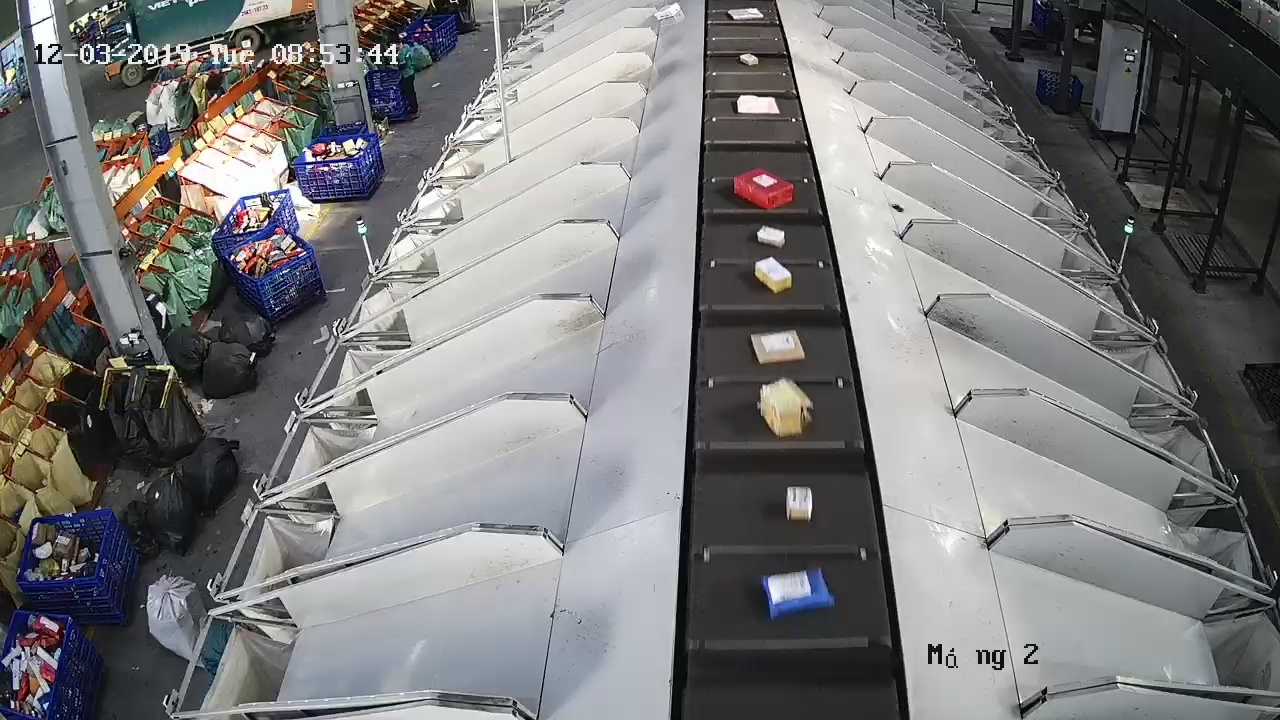parcel: (760, 564, 837, 623), (757, 375, 815, 441), (733, 168, 796, 210), (749, 327, 807, 366), (753, 255, 793, 295), (783, 484, 814, 524), (756, 224, 787, 250), (890, 199, 905, 213)
